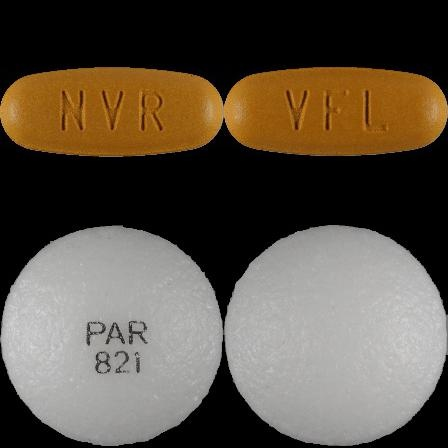54868-6123: (0, 0, 224, 224)
